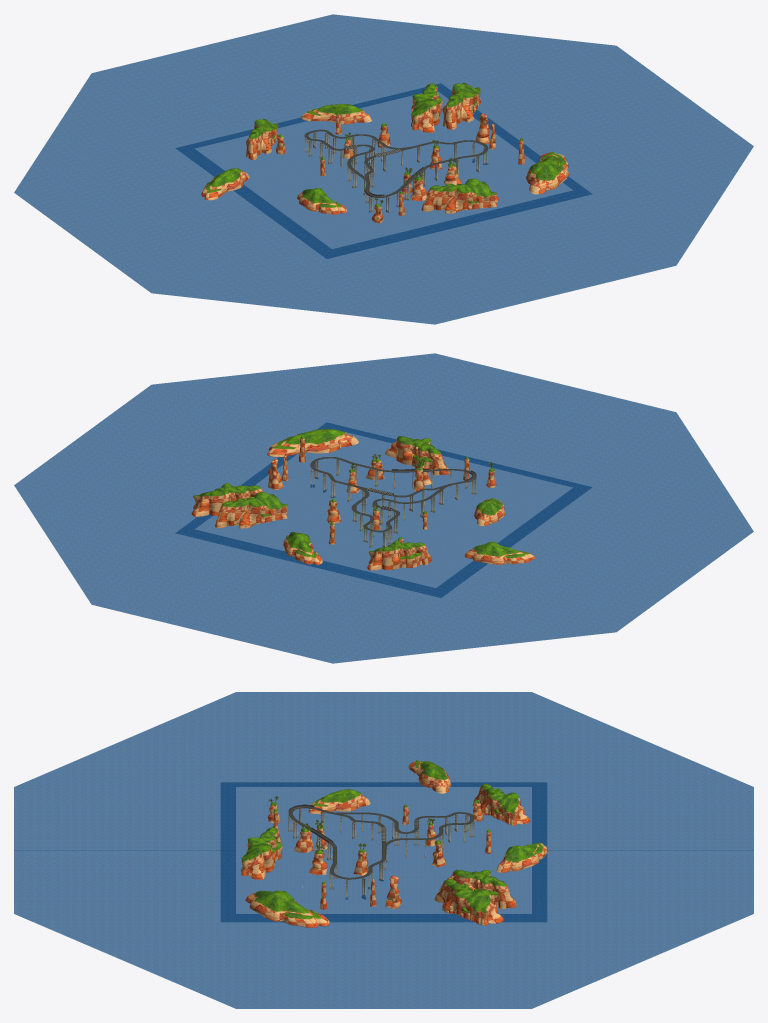
The picture shows the model from 3 angles, top to bottom: view 1: azimuth 30°, elevation 25°; view 2: azimuth 150°, elevation 25°; view 3: azimuth 270°, elevation 25°; orthographic projection. The views are drawn at different scales.
Parts seen in each view (by area): view 1: twn_d_sea02xno0_3, twn_d_sea02xno1_4, twn_d_sea01xno0_6, twn_d_farcliff_nos_xno1_19, twn_d_farcliff_nos_xno0_18, twn_d_cliffxno0_29, twn_d_pillarxno0_10, twn_d_circuitxno2_34; view 2: twn_d_sea02xno0_3, twn_d_sea02xno1_4, twn_d_sea01xno0_6, twn_d_farcliff_nos_xno1_19, twn_d_farcliff_nos_xno0_18, twn_d_pillarxno0_10, twn_d_cliffxno0_29, twn_d_circuitxno2_34; view 3: twn_d_sea02xno0_3, twn_d_sea02xno1_4, twn_d_sea01xno0_6, twn_d_farcliff_nos_xno1_19, twn_d_farcliff_nos_xno0_18, twn_d_cliffxno0_29, twn_d_pillarxno0_10, twn_d_circuitxno2_34.
Part boxes in pixels (left/top/right/bottom): twn_d_sea02xno0_3: left=74, top=39, right=693, bottom=299; twn_d_sea02xno1_4: left=14, top=14, right=753, bottom=324; twn_d_sea01xno0_6: left=176, top=84, right=590, bottom=258; twn_d_farcliff_nos_xno1_19: left=201, top=82, right=568, bottom=214; twn_d_farcliff_nos_xno0_18: left=210, top=89, right=569, bottom=213; twn_d_cliffxno0_29: left=276, top=113, right=525, bottom=223; twn_d_pillarxno0_10: left=304, top=132, right=488, bottom=212; twn_d_circuitxno2_34: left=304, top=129, right=488, bottom=196; twn_d_sea02xno0_3: left=74, top=378, right=693, bottom=638; twn_d_sea02xno1_4: left=14, top=353, right=753, bottom=663; twn_d_sea01xno0_6: left=177, top=423, right=591, bottom=597; twn_d_farcliff_nos_xno1_19: left=193, top=428, right=535, bottom=564; twn_d_farcliff_nos_xno0_18: left=191, top=434, right=506, bottom=570; twn_d_pillarxno0_10: left=310, top=459, right=476, bottom=547; twn_d_cliffxno0_29: left=268, top=440, right=496, bottom=544; twn_d_circuitxno2_34: left=310, top=457, right=476, bottom=532; twn_d_sea02xno0_3: left=88, top=723, right=679, bottom=977; twn_d_sea02xno1_4: left=14, top=692, right=753, bottom=1008; twn_d_sea01xno0_6: left=221, top=783, right=546, bottom=921; twn_d_farcliff_nos_xno1_19: left=241, top=760, right=548, bottom=927; twn_d_farcliff_nos_xno0_18: left=241, top=766, right=539, bottom=925; twn_d_cliffxno0_29: left=267, top=803, right=491, bottom=909; twn_d_pillarxno0_10: left=288, top=808, right=474, bottom=899; twn_d_circuitxno2_34: left=288, top=806, right=474, bottom=879.
Size of the model in its own units: 3480 by 179 by 3436.
Materials: 20 (20 with a texture image).
